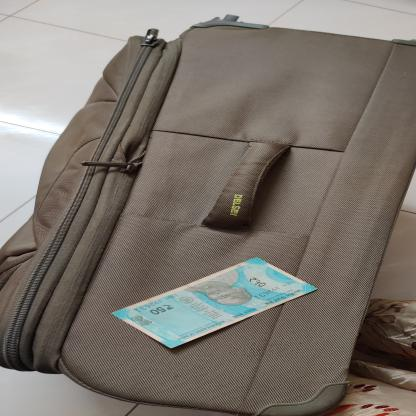New50Front: (108, 256, 320, 349)
